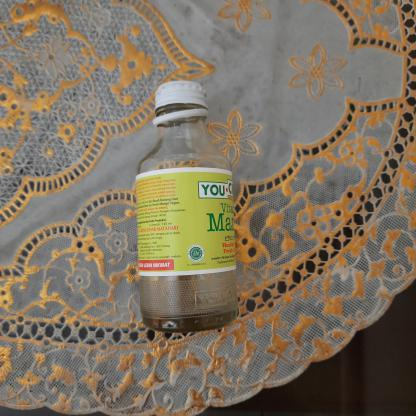bottle: (129, 74, 242, 334)
